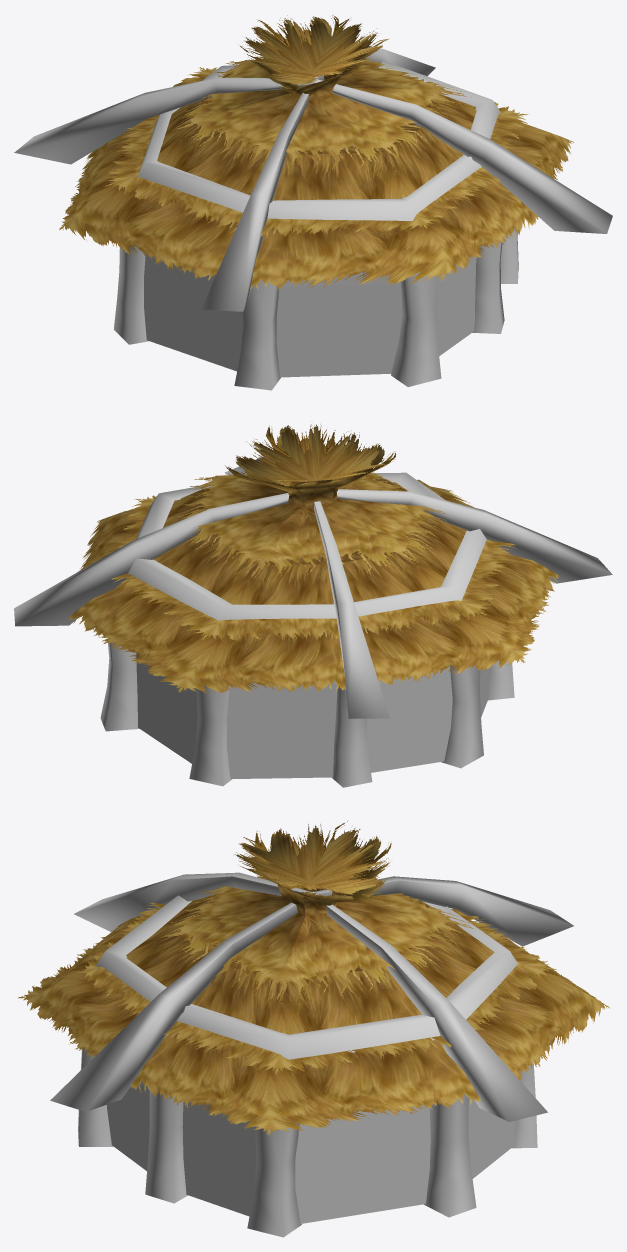
Rendered from environment_Building_cunzhuang_001_a.FBX.
3 renders of one model, top to bottom at view 1: azimuth 30°, elevation 25°; view 2: azimuth 150°, elevation 25°; view 3: azimuth 270°, elevation 25°, orthographic. The views are drawn at different scales.
Parts seen in each view (by area): view 1: environment_Building_cunzhuang_001_b, environment_Building_cunzhuang_001_a, environment_Building_cunzhuang_001_c; view 2: environment_Building_cunzhuang_001_b, environment_Building_cunzhuang_001_a, environment_Building_cunzhuang_001_c; view 3: environment_Building_cunzhuang_001_b, environment_Building_cunzhuang_001_a, environment_Building_cunzhuang_001_c.
Boxes of the visible parts, bbox=[...] form: environment_Building_cunzhuang_001_b: bbox=[59, 15, 573, 290]; environment_Building_cunzhuang_001_a: bbox=[14, 46, 612, 390]; environment_Building_cunzhuang_001_c: bbox=[144, 144, 476, 377]; environment_Building_cunzhuang_001_b: bbox=[68, 424, 558, 693]; environment_Building_cunzhuang_001_a: bbox=[14, 456, 612, 787]; environment_Building_cunzhuang_001_c: bbox=[136, 550, 489, 778]; environment_Building_cunzhuang_001_b: bbox=[18, 821, 609, 1134]; environment_Building_cunzhuang_001_a: bbox=[50, 872, 573, 1237]; environment_Building_cunzhuang_001_c: bbox=[107, 1080, 515, 1223].
Bounding box in the file's own units: 762 × 400 × 762.
